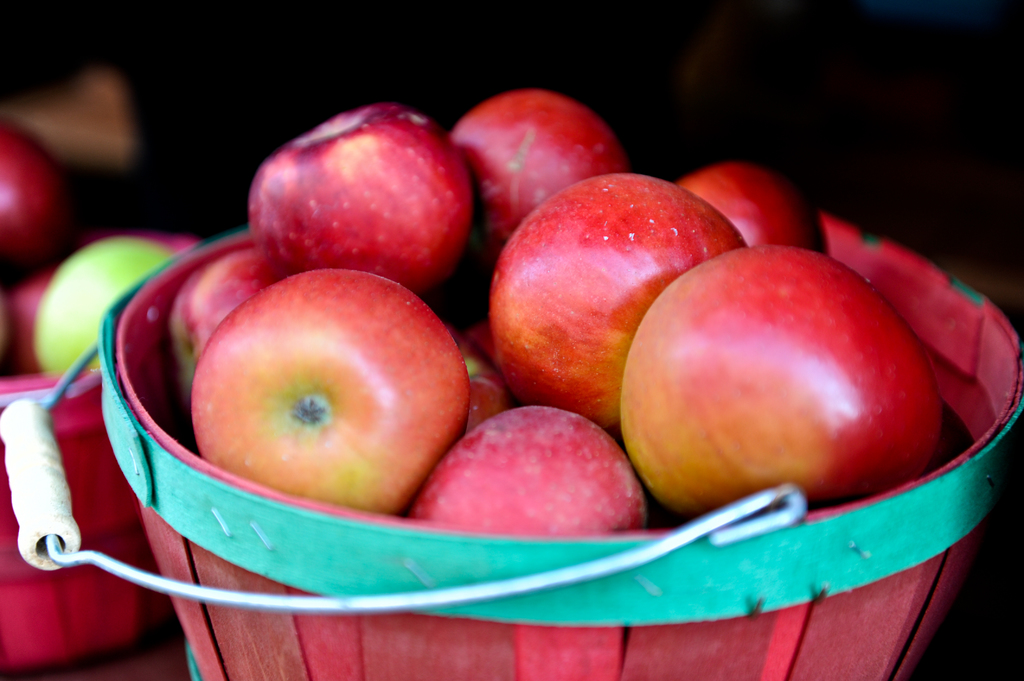Apple: (163, 87, 833, 539), (616, 238, 942, 499), (31, 234, 176, 380), (0, 118, 69, 258)
